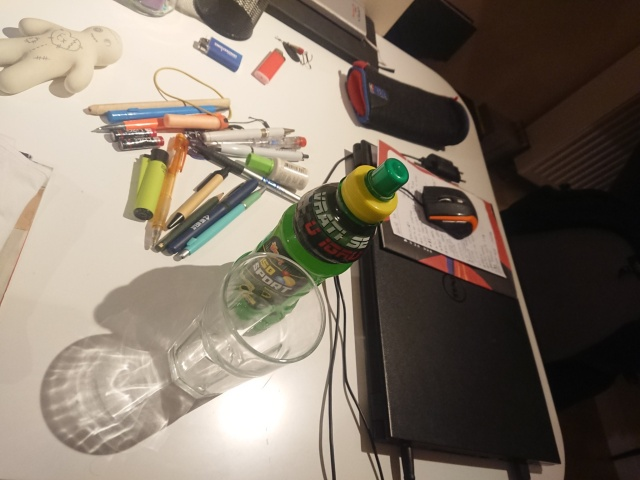Vindi Iso Sport Lemon-Grapefruit 500mL: (218, 156, 411, 327)
